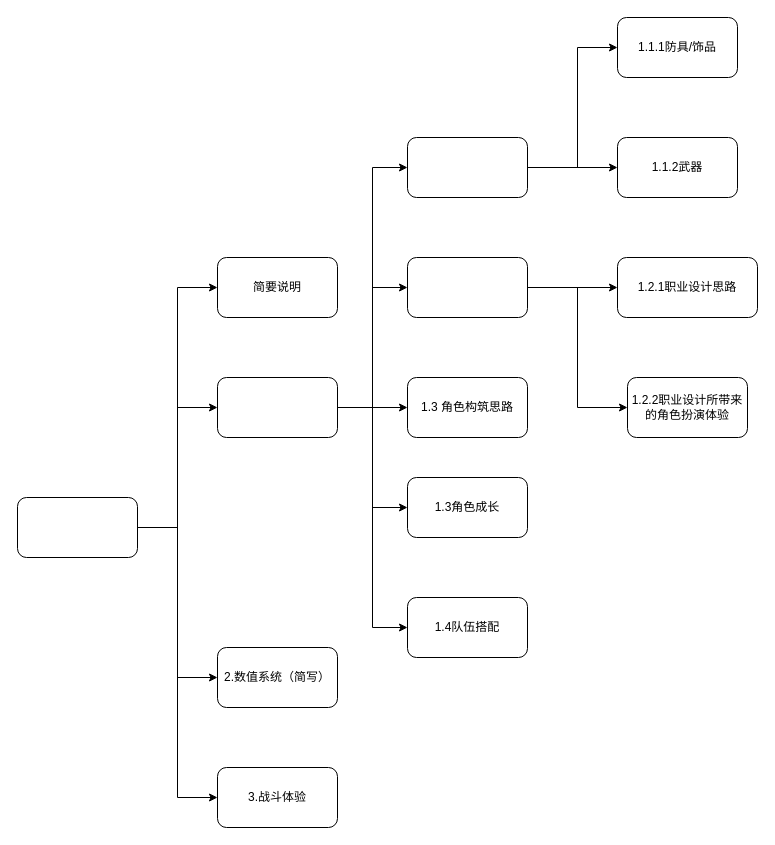
The diagram is 775 pixels wide and 845 high, and some of its shapes have lost their labels. Here are the shapes that lost their labels. From the top down, the box of each, then its label:
(406, 136, 528, 198): 1.1装备
(406, 256, 528, 318): 1.2职业
(216, 376, 338, 438): 1.角色构筑
(16, 496, 138, 558): 游戏性比较
